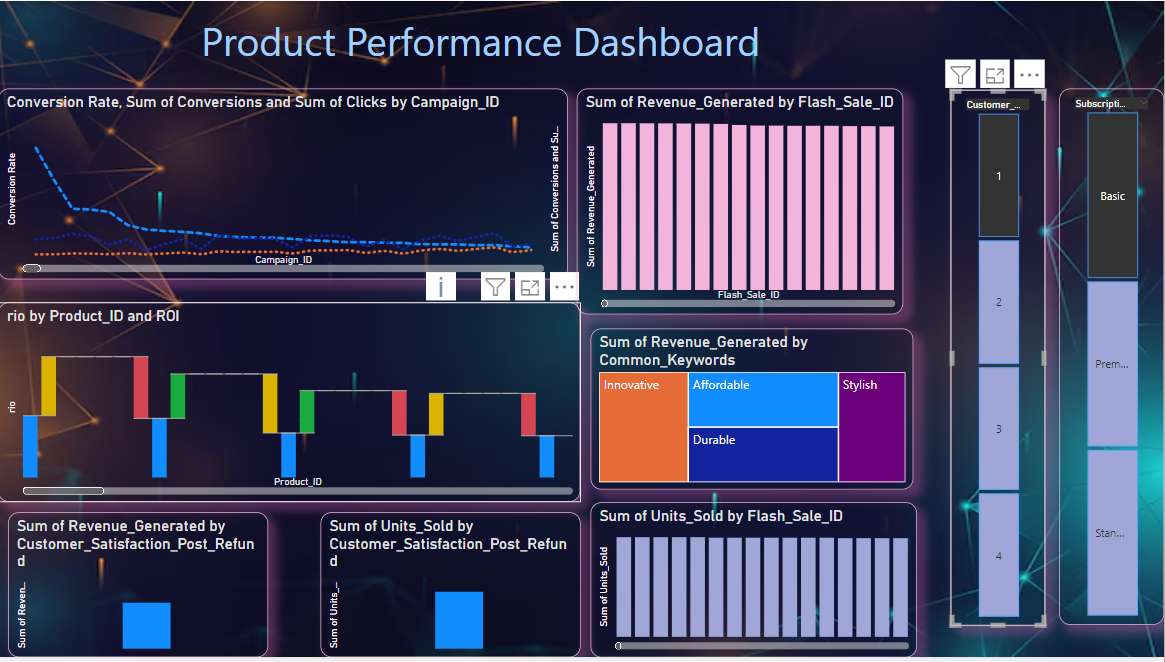

The dashboard page shown, as its layout file describes it:
{"tool":"powerbi","page":{"name":"Page 1","canvas":[1280,720],"ordinal":0},"visuals":[{"type":"lineChart","fields":{"Category":["marketing_and_product_performance.Campaign_ID"],"Y":["marketing_and_product_performance.Conversion Rate"],"Y2":["Sum(marketing_and_product_performance.Conversions)","Sum(marketing_and_product_performance.Clicks)"]},"box":[0,96.1,625.7,209.9],"z":0},{"type":"waterfallChart","fields":{"Category":["marketing_and_product_performance.Product_ID"],"Y":["marketing_and_product_performance.rio"],"Breakdown":["marketing_and_product_performance.ROI"]},"box":[0,330.7,639.5,219.6],"z":1000},{"type":"columnChart","fields":{"Y":["Sum(marketing_and_product_performance.Revenue_Generated)"],"Category":["marketing_and_product_performance.Customer_Satisfaction_Post_Refund"]},"box":[11,561.2,285.4,159.2],"z":2000},{"type":"columnChart","fields":{"Category":["marketing_and_product_performance.Customer_Satisfaction_Post_Refund"],"Y":["Sum(marketing_and_product_performance.Units_Sold)"]},"box":[354,561.2,285.4,159.2],"z":3000},{"type":"clusteredColumnChart","fields":{"Category":["marketing_and_product_performance.Flash_Sale_ID"],"Y":["Sum(marketing_and_product_performance.Revenue_Generated)"]},"box":[635.3,96.1,358.1,248.4],"z":4000},{"type":"treemap","fields":{"Group":["marketing_and_product_performance.Common_Keywords"],"Values":["Sum(marketing_and_product_performance.Revenue_Generated)"]},"box":[650.4,359.5,354,177],"z":5000},{"type":"slicer","fields":{"Values":["marketing_and_product_performance.Subscription_Tier"]},"box":[1165,96.1,115.3,588.7],"z":6000},{"type":"clusteredColumnChart","fields":{"Category":["marketing_and_product_performance.Flash_Sale_ID"],"Y":["Sum(marketing_and_product_performance.Units_Sold)"]},"box":[650.4,550.3,358.1,170.2],"z":7000},{"type":"textbox","box":[218.2,9.6,675.1,75.5],"z":8000},{"type":"slicer","fields":{"Values":["marketing_and_product_performance.Customer_Satisfaction_Post_Refund"]},"box":[1045.6,97.4,104.3,588.7],"z":8001}]}

Visuals, with their boxes in screenshot pixels (x1, y1, x2, y2), scaled from the page's 1280x720 canvas onto the 1165x662 screenshot:
lineChart - marketing_and_product_performance.Campaign_ID x marketing_and_product_performance.Conversion Rate: [left=0, top=88, right=569, bottom=281]
waterfallChart - marketing_and_product_performance.Product_ID x marketing_and_product_performance.rio: [left=0, top=304, right=582, bottom=506]
columnChart - Sum(marketing_and_product_performance.Revenue_Generated) x marketing_and_product_performance.Customer_Satisfaction_Post_Refund: [left=10, top=516, right=270, bottom=661]
columnChart - marketing_and_product_performance.Customer_Satisfaction_Post_Refund x Sum(marketing_and_product_performance.Units_Sold): [left=322, top=516, right=582, bottom=661]
clusteredColumnChart - marketing_and_product_performance.Flash_Sale_ID x Sum(marketing_and_product_performance.Revenue_Generated): [left=578, top=88, right=904, bottom=317]
treemap - marketing_and_product_performance.Common_Keywords x Sum(marketing_and_product_performance.Revenue_Generated): [left=592, top=331, right=914, bottom=493]
slicer - marketing_and_product_performance.Subscription_Tier: [left=1060, top=88, right=1164, bottom=630]
clusteredColumnChart - marketing_and_product_performance.Flash_Sale_ID x Sum(marketing_and_product_performance.Units_Sold): [left=592, top=506, right=918, bottom=661]
textbox: [left=199, top=9, right=813, bottom=78]
slicer - marketing_and_product_performance.Customer_Satisfaction_Post_Refund: [left=952, top=90, right=1047, bottom=631]
